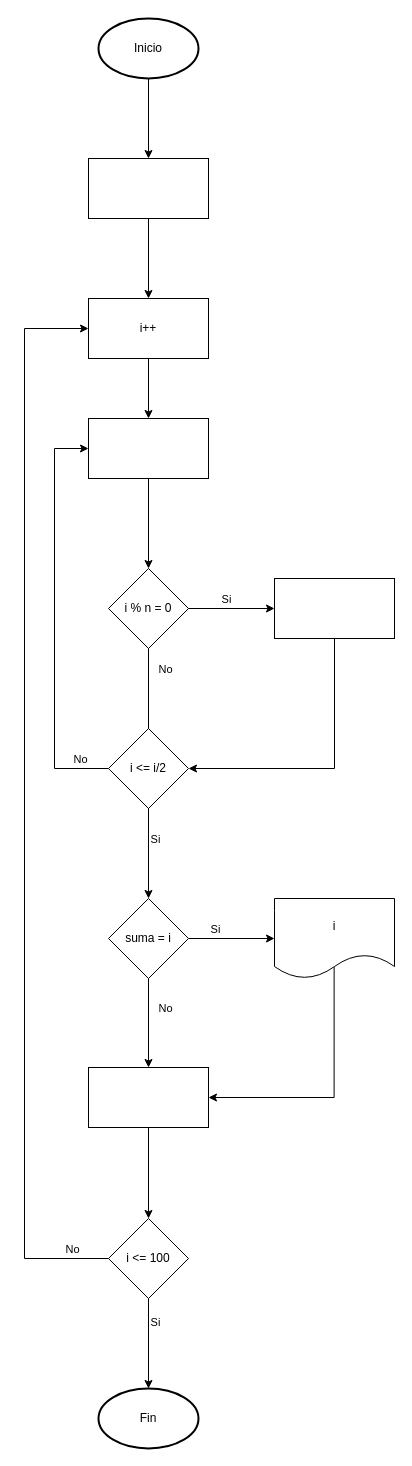
The diagram is 412 pixels wide and 1466 high, and some of its shapes have lost their labels. Each missing label, with the centre of its shape:
"n++" belongs at [148,448].
"suma += n" belongs at [334,608].
"suma = 0" belongs at [148,1097].
"Suma = 0 i = 1 n = 1" belongs at [148,188].
